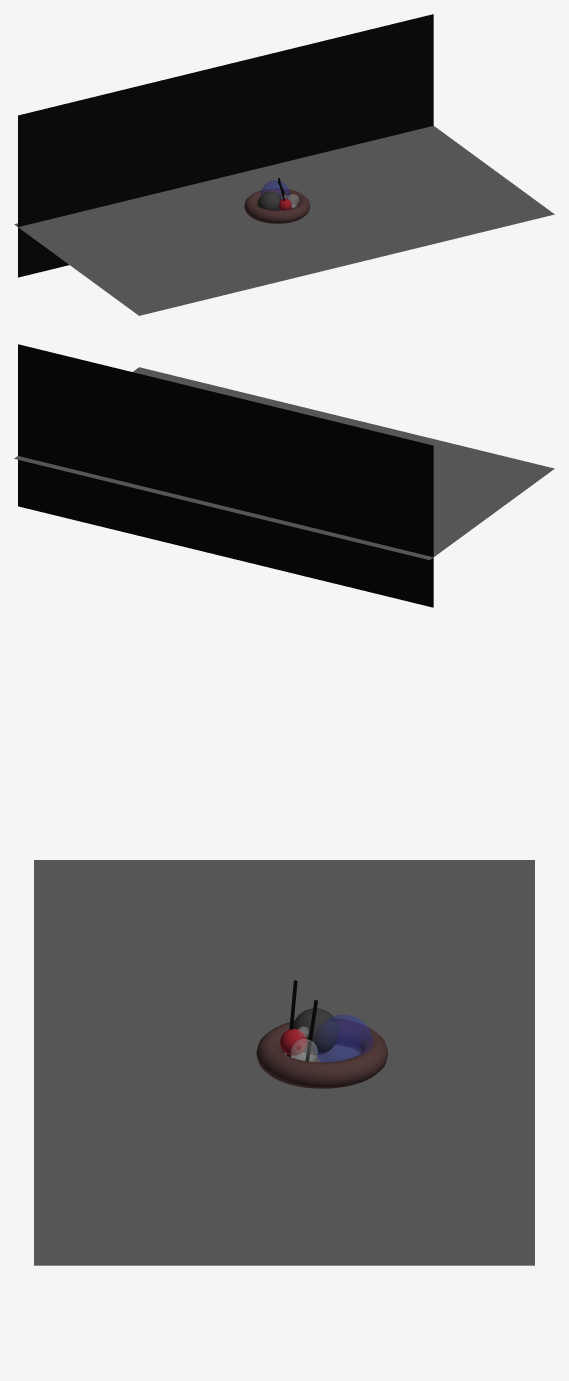
3 renders of one model, top to bottom at view 1: azimuth 30°, elevation 25°; view 2: azimuth 150°, elevation 25°; view 3: azimuth 270°, elevation 25°, orthographic. The views are drawn at different scales.
Visible parts, largest first — view 1: Plane.002, Plane.001, Torus; view 2: Plane.002, Plane.001; view 3: Plane.001, Torus, Sphere, Sphere.001.
Part boxes in pixels (x1,y1,x2,y2): Plane.002: [18, 14, 433, 277]; Plane.001: [14, 125, 554, 315]; Torus: [244, 188, 310, 223]; Plane.002: [18, 344, 433, 607]; Plane.001: [14, 367, 554, 560]; Plane.001: [34, 860, 534, 1265]; Torus: [256, 1018, 388, 1088]; Sphere: [314, 1014, 373, 1062]; Sphere.001: [293, 1008, 338, 1055].
Size of the model in its own units: 1.2 by 0.4474 by 0.6261.
